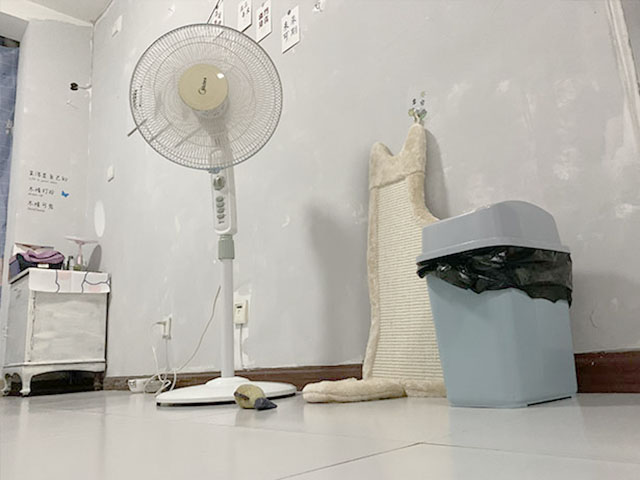cabinet: (1, 264, 110, 399)
trashcan: (414, 199, 577, 409)
wire: (140, 311, 181, 399)
